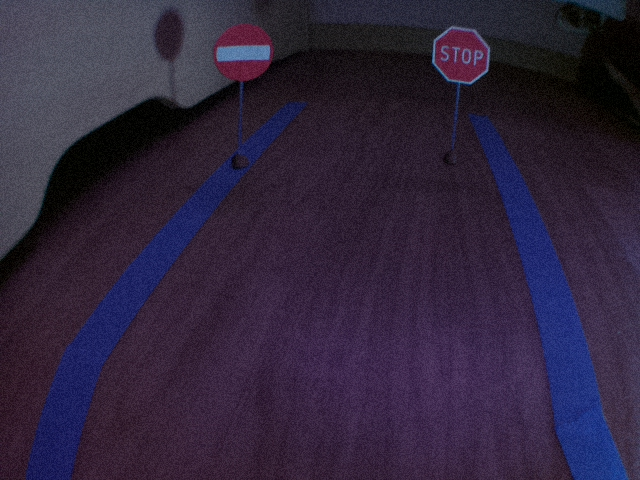stop: (428, 25, 493, 85)
zakaz: (210, 21, 277, 83)
